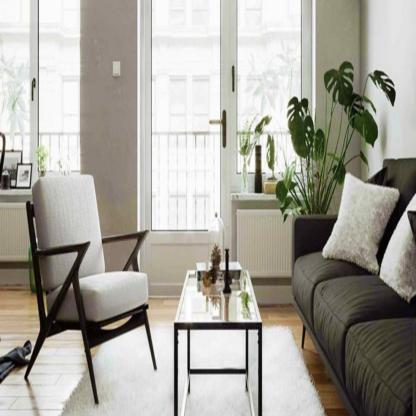bantal: (331, 174, 383, 268)
kursi: (22, 167, 159, 403), (175, 259, 265, 416)
sova: (286, 146, 416, 416)
